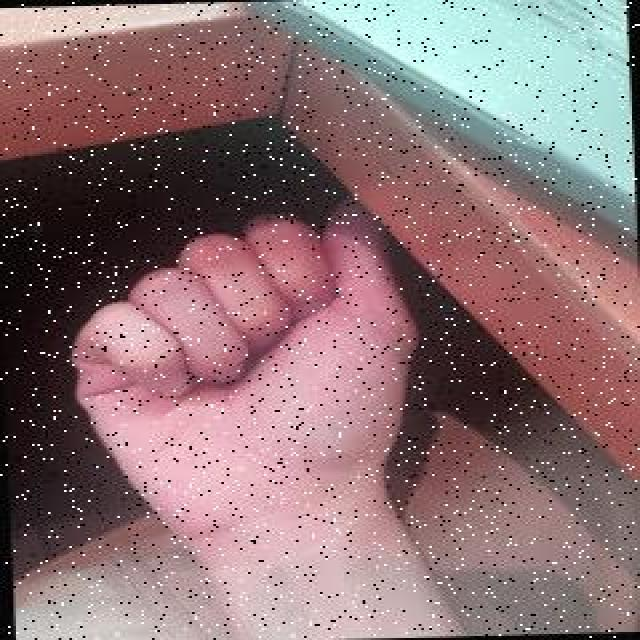A: (44, 184, 428, 578)
